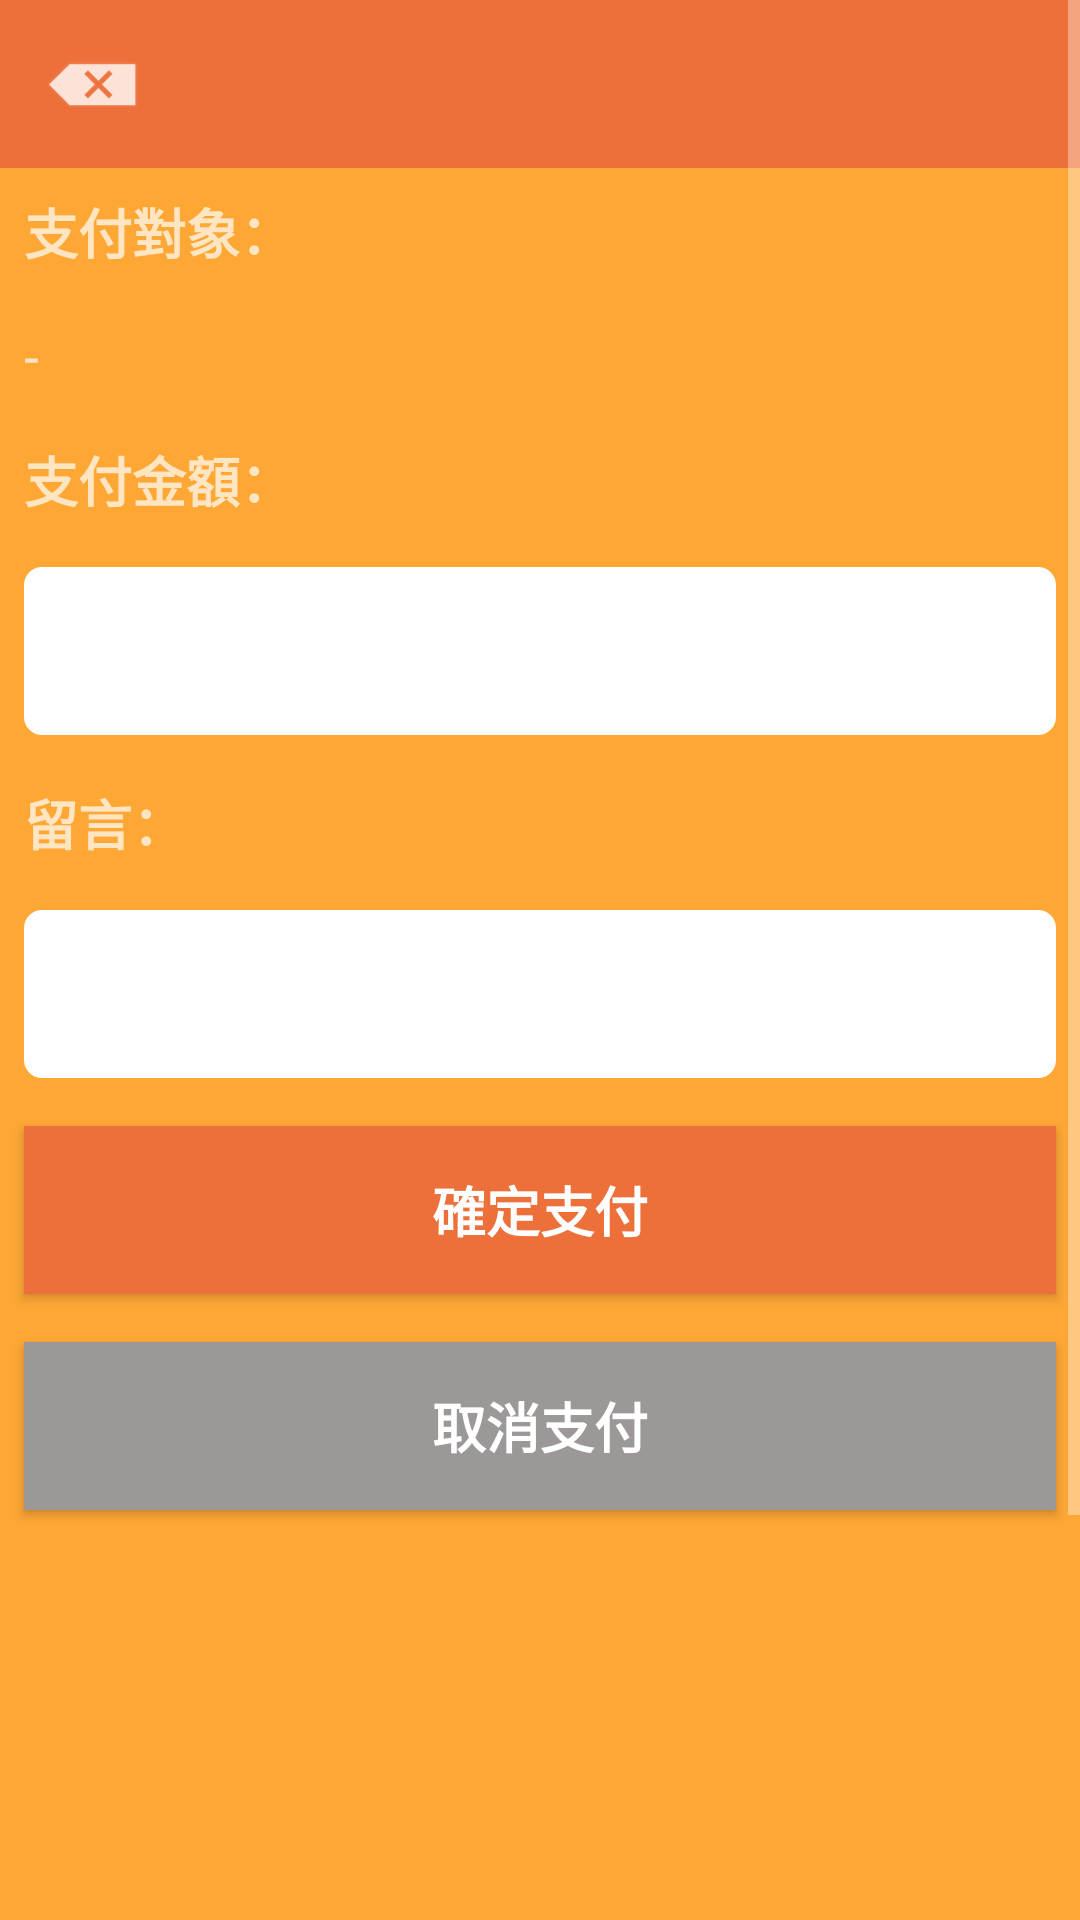

Icon click points for this 1080 x 1920 phone screenshot, format [x,y]:
delete: [92,85]
